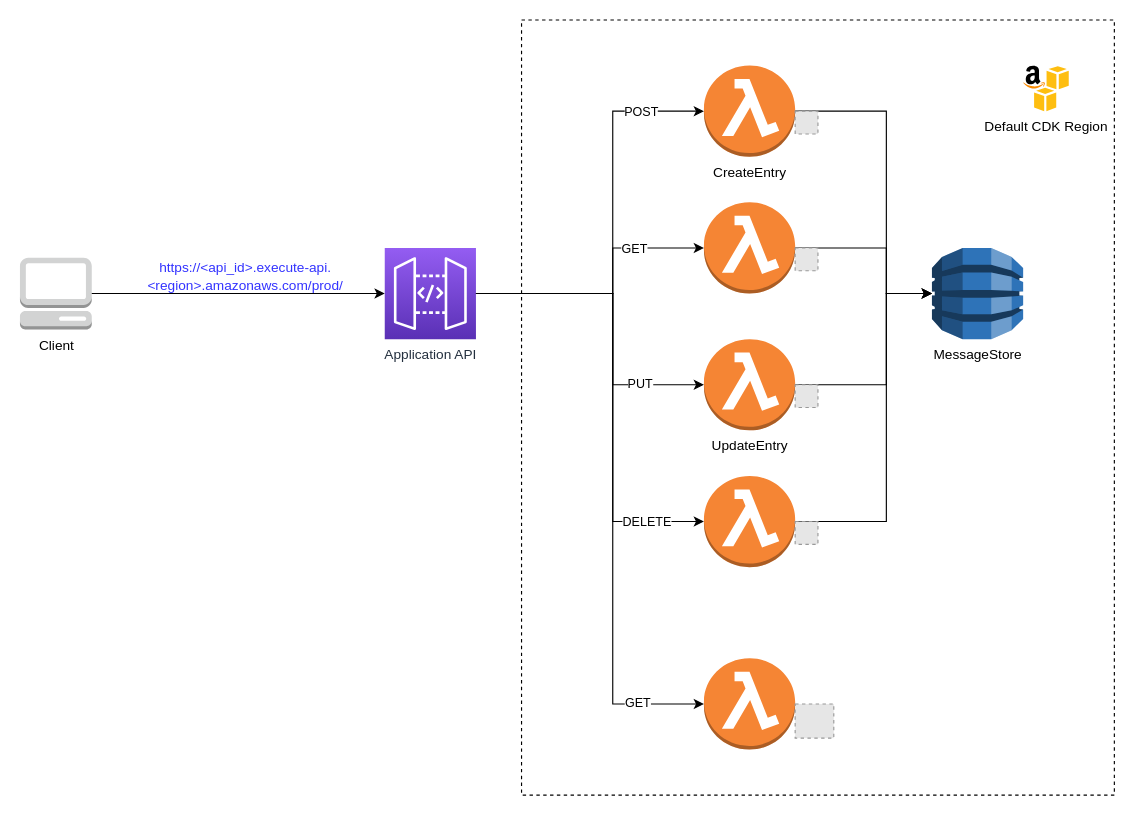
This 1134x815 diagram has some shape labels left out. Grey dashed boxes stand in for pictures. Here are the shapes that lost their labels. From the top down, the centre of each, then its label:
At (x=749, y=247): "ReadEntry".
At (x=749, y=521): "DeleteEntry".
At (x=749, y=703): "HealthCheck".
